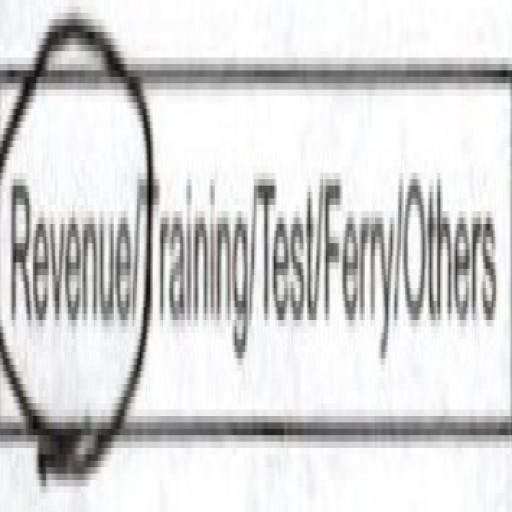check: (0, 7, 158, 507)
